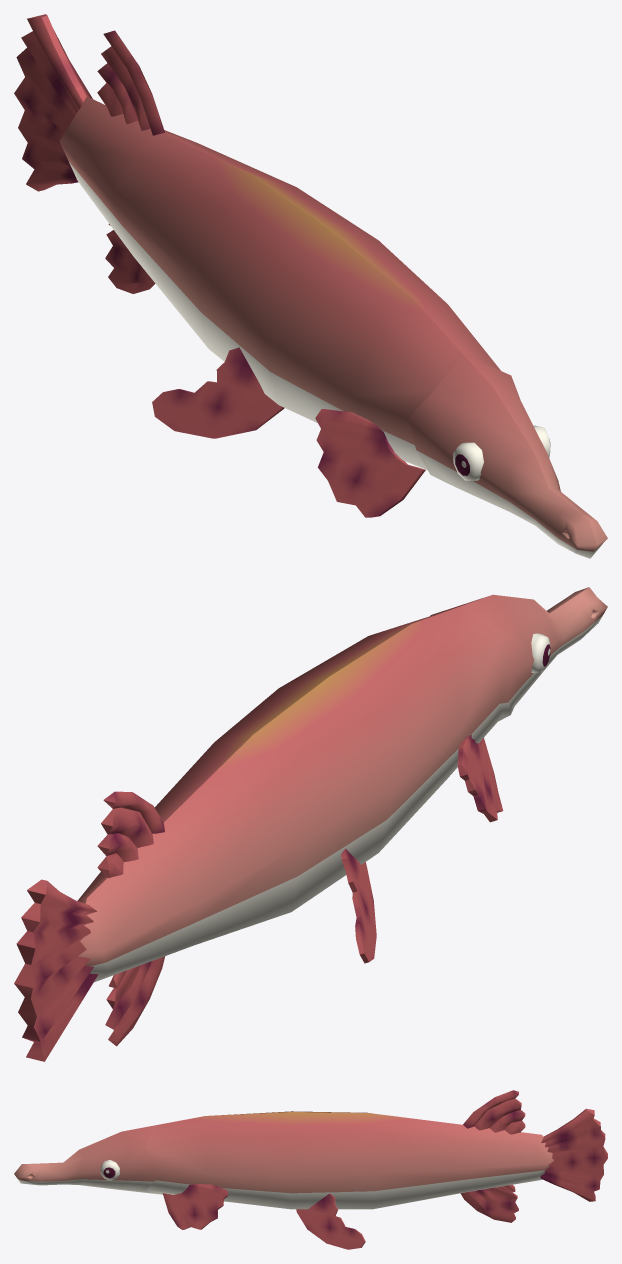
3 views of the same model, one above another, from view 1: azimuth 30°, elevation 25°; view 2: azimuth 150°, elevation 25°; view 3: azimuth 270°, elevation 25° (orthographic). The views are drawn at different scales.
Parts seen in each view (by area): view 1: Fish_AligatorGar; view 2: Fish_AligatorGar; view 3: Fish_AligatorGar.
Boxes of the visible parts, x1,y1,x2,y2 form: Fish_AligatorGar: (14, 14, 607, 558); Fish_AligatorGar: (14, 587, 607, 1061); Fish_AligatorGar: (14, 1090, 607, 1249).
Bounding box in the file's own units: 37.81 × 43.97 × 175.
